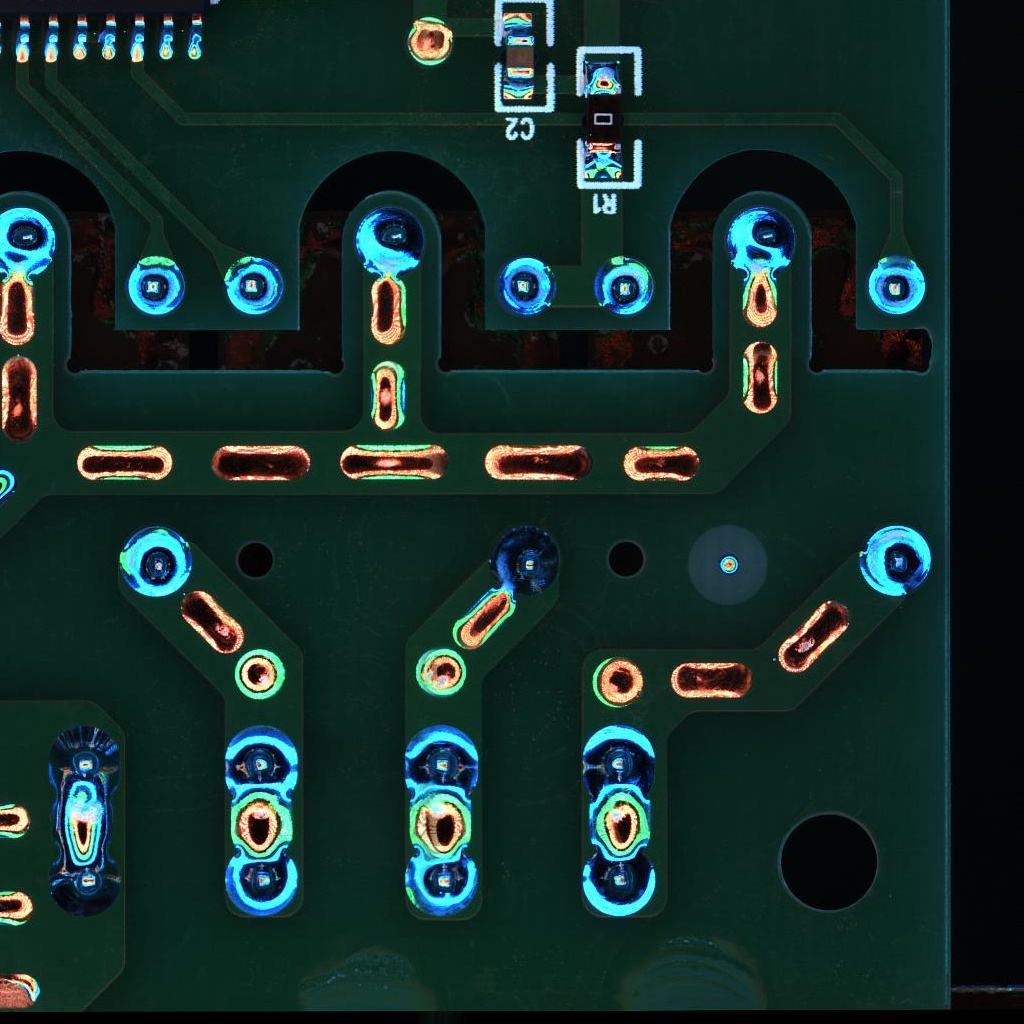spot: (578, 724, 659, 804), (399, 721, 480, 800), (223, 723, 301, 800), (46, 844, 125, 920), (857, 521, 934, 597), (401, 845, 479, 920), (45, 725, 124, 799), (580, 847, 659, 920), (222, 847, 301, 919), (119, 524, 194, 599), (723, 204, 798, 278), (488, 526, 562, 599), (353, 208, 427, 279), (1, 205, 58, 281), (592, 252, 656, 317), (124, 254, 188, 317), (222, 256, 286, 318), (496, 256, 560, 317), (866, 256, 927, 317)
